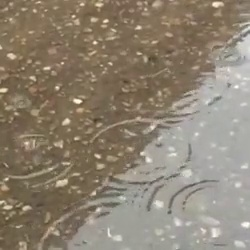drop: (91, 117, 189, 184), (41, 195, 119, 250), (1, 132, 71, 187), (154, 174, 221, 221), (220, 48, 243, 67), (11, 94, 31, 109), (210, 42, 228, 58)
